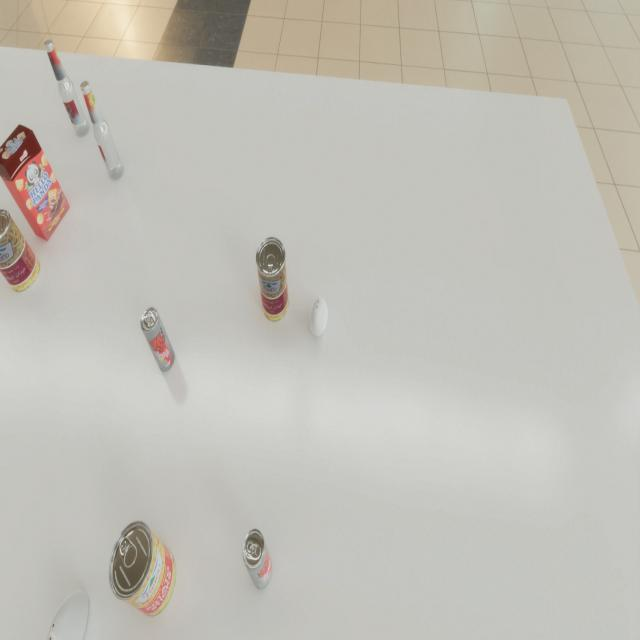Bottle: (44, 40, 90, 136), (80, 81, 124, 180)
HelloPanda: (0, 124, 70, 241)
Potato_sticks: (109, 520, 176, 616), (0, 209, 40, 292), (256, 236, 289, 322)
Rita_zero_sugar: (140, 307, 175, 372), (242, 529, 272, 589)
Salt: (44, 589, 88, 640), (310, 296, 328, 336)
